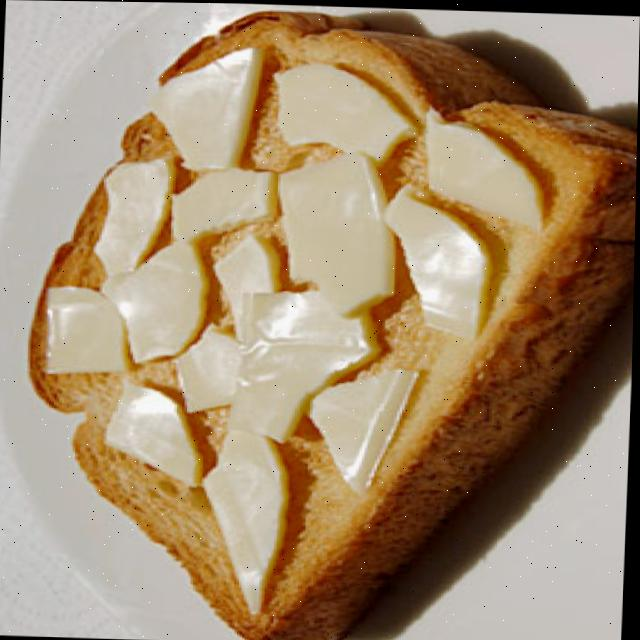面包点心: (24, 0, 640, 640)
